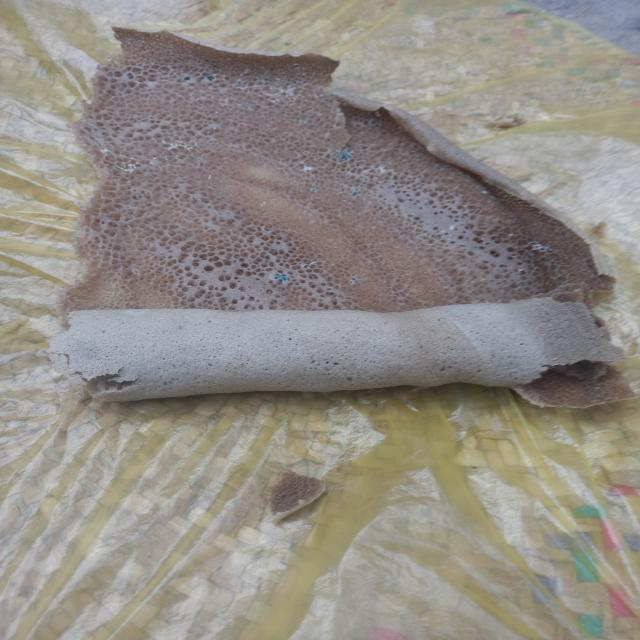injera_mold: (160, 138, 202, 155), (259, 85, 298, 103), (117, 155, 140, 172), (361, 164, 394, 175), (529, 240, 554, 254), (269, 271, 290, 283), (334, 150, 354, 162), (198, 73, 218, 82), (300, 261, 318, 270), (238, 102, 254, 112), (128, 308, 148, 315), (350, 276, 363, 286), (363, 117, 378, 125), (100, 148, 112, 154), (352, 190, 362, 197), (302, 166, 316, 171), (233, 80, 244, 86), (297, 118, 308, 124), (448, 224, 456, 232), (262, 76, 272, 82), (260, 200, 268, 207), (183, 76, 192, 82), (309, 188, 317, 194), (206, 174, 213, 180), (482, 190, 488, 195)
